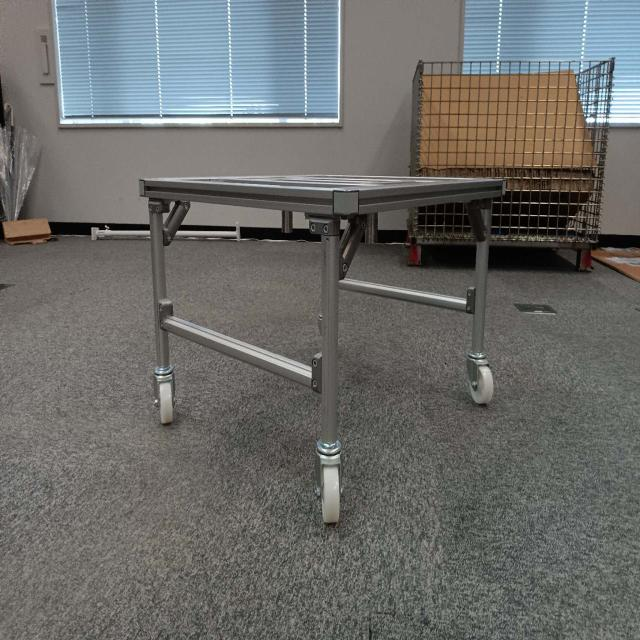box: (4, 216, 52, 245)
door: (333, 188, 493, 277)
side: (148, 182, 334, 391)
